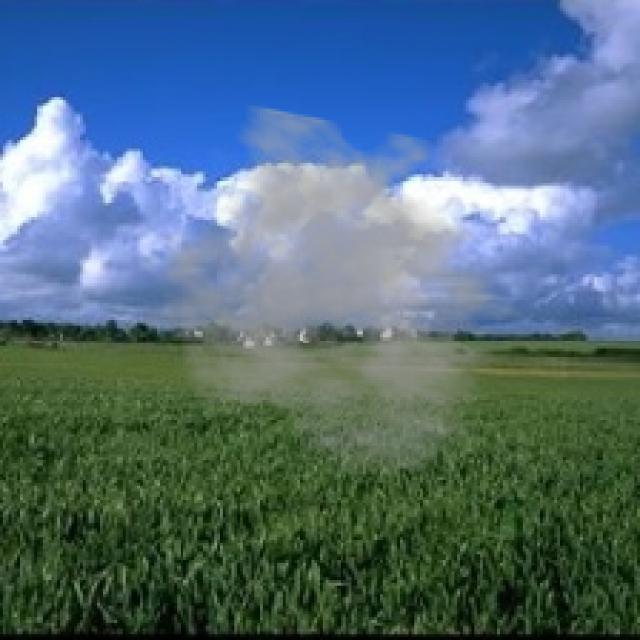smoke: (140, 103, 537, 480)
